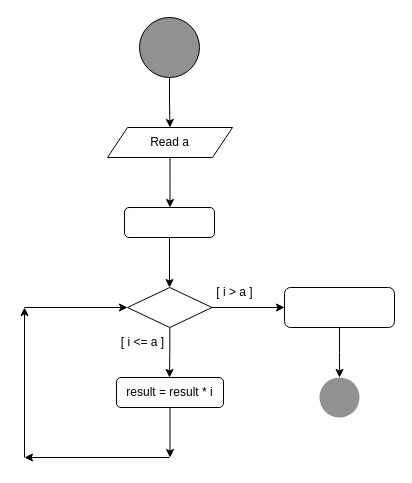
Image size: 412x483. Some labels were removed from this diagram. Here are the shapes that lost their labels. From the top down, the box of each, then its label:
(124, 206, 214, 238): i = 1
(284, 286, 394, 328): print result
